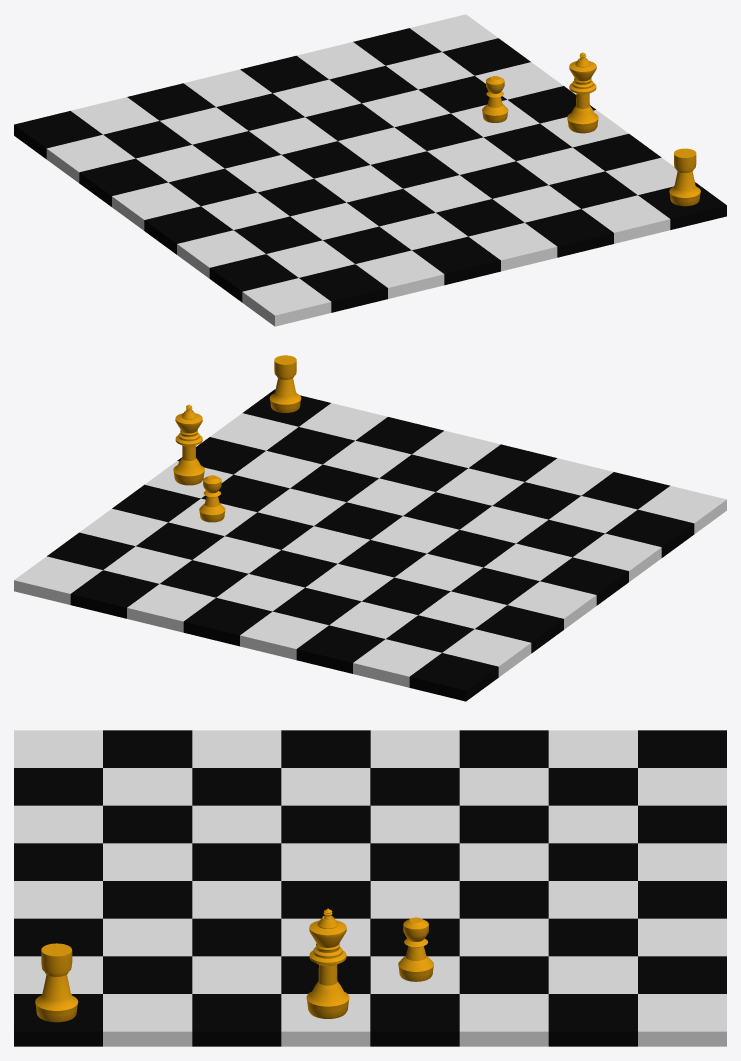
Rendered from Chess Board and Pieces.fbx.
The picture shows the model from 3 angles, top to bottom: view 1: azimuth 30°, elevation 25°; view 2: azimuth 150°, elevation 25°; view 3: azimuth 270°, elevation 25°; orthographic projection. The views are drawn at different scales.
Visible parts, largest first — view 1: Board, King, Rook, Pawn; view 2: Board, King, Rook, Pawn; view 3: Board, King, Rook, Pawn.
Part boxes in pixels (x1,y1,x2,y2): Board: (14, 14, 726, 326); King: (567, 52, 598, 133); Rook: (669, 148, 700, 206); Pawn: (482, 76, 508, 122); Board: (14, 389, 726, 701); King: (173, 404, 204, 485); Rook: (269, 355, 301, 412); Pawn: (199, 475, 225, 522); Board: (14, 730, 726, 1046); King: (306, 908, 349, 1018); Rook: (35, 943, 78, 1022); Pawn: (398, 917, 433, 981).
Bounding box in the file's own units: 451 × 83.18 × 451.
